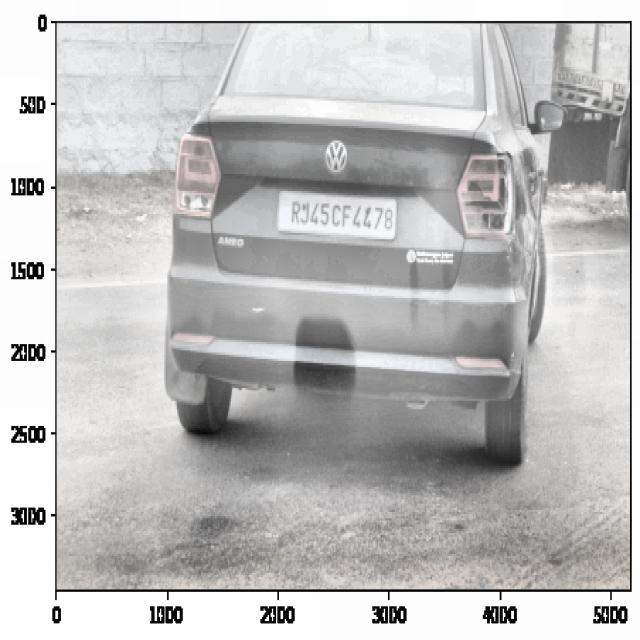license_plate: (286, 192, 399, 242)
